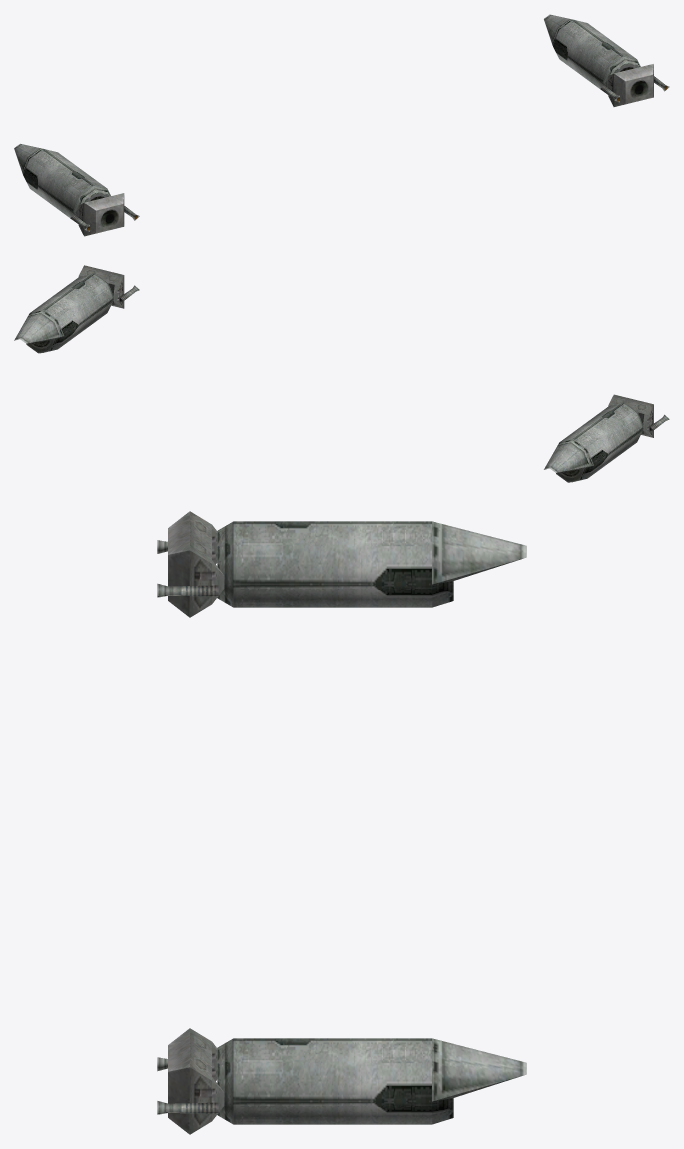
Rendered from black_sun_fighter_medium_weapon2_s03_l1.fbx.
The picture shows the model from 3 angles, top to bottom: view 1: azimuth 30°, elevation 25°; view 2: azimuth 150°, elevation 25°; view 3: azimuth 270°, elevation 25°; orthographic projection. The views are drawn at different scales.
Parts seen in each view (by area): view 1: mesh_node; view 2: mesh_node; view 3: mesh_node.
Boxes of the visible parts, box(x1,y1,x2,y2) form: mesh_node: box(14, 14, 669, 236); mesh_node: box(14, 265, 669, 482); mesh_node: box(157, 511, 526, 1134).
Bounding box in the file's own units: 7.69 × 0.5418 × 2.1.
Materials: 1 (1 with a texture image).
